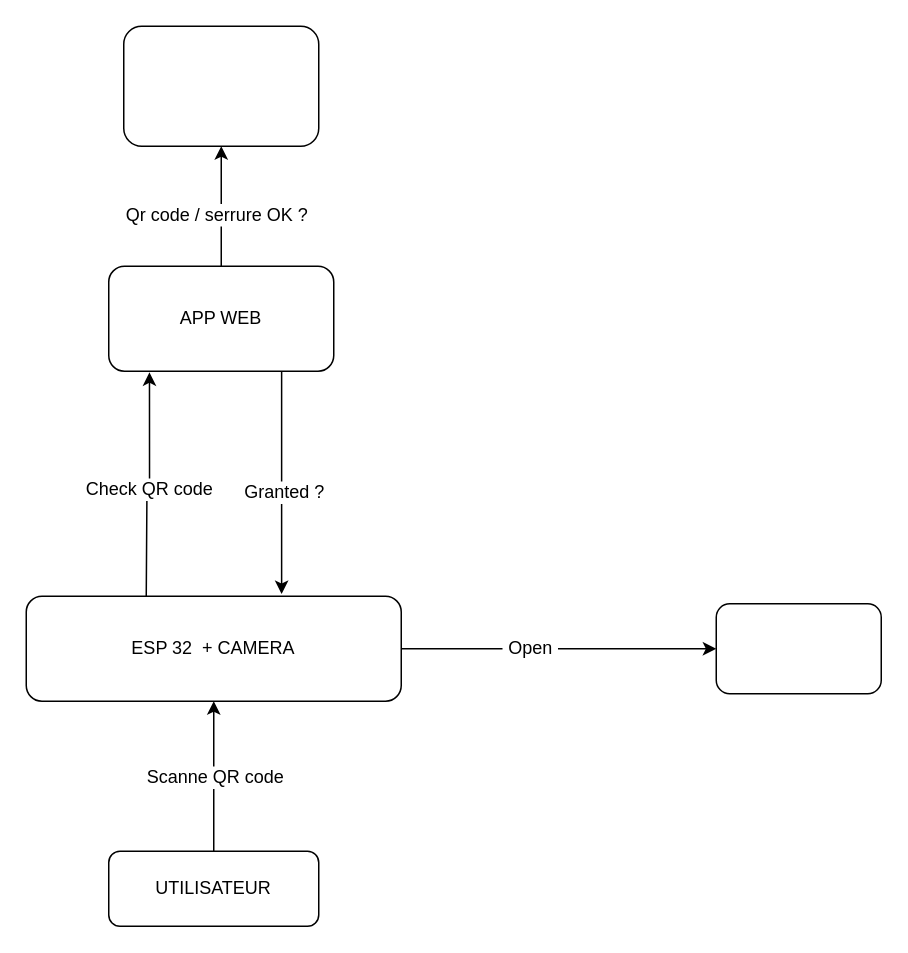
The diagram is 908 pixels wide and 953 high, and some of its shapes have lost their labels. The shapes that lost their labels are listed below. From the top down, each one's centre as x and y in pixels, then its label:
At point (220, 85): "DATABASE".
At point (798, 648): "SERRURE".
